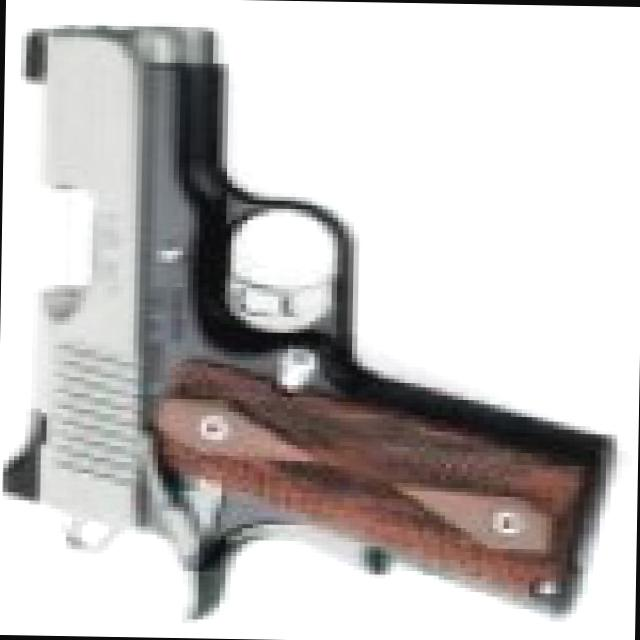handgun: (5, 27, 608, 639)
